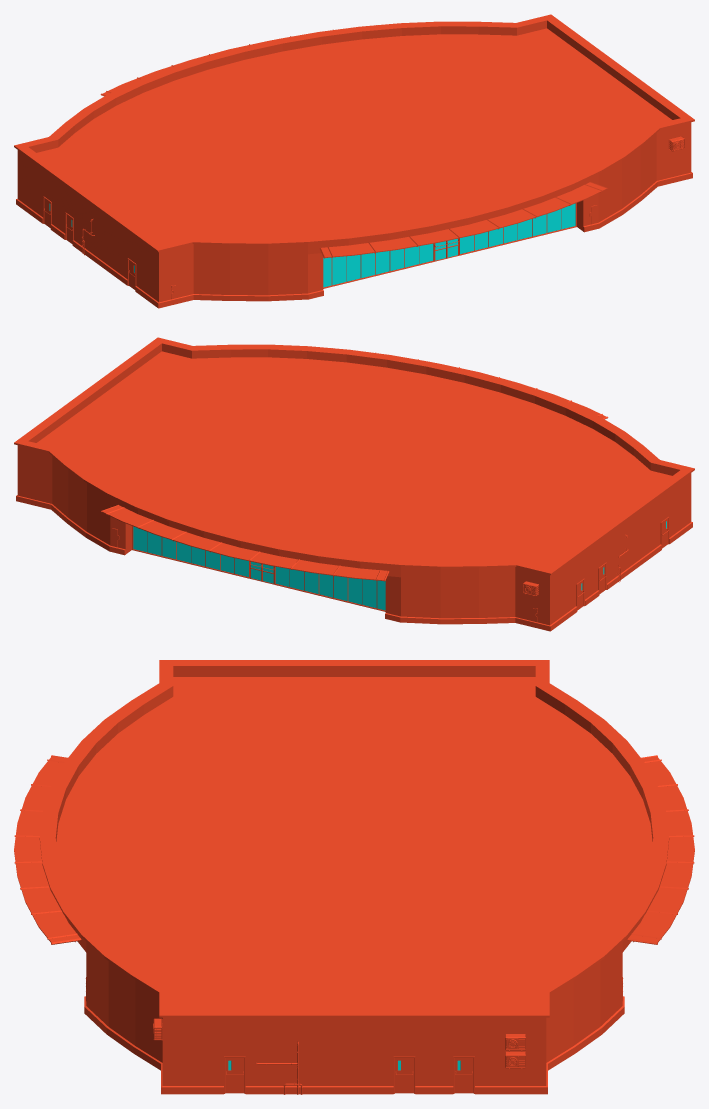
File: SM_Skyscraper_B_Base_City.fbx
3 renders of one model, top to bottom at view 1: azimuth 30°, elevation 25°; view 2: azimuth 150°, elevation 25°; view 3: azimuth 270°, elevation 25°, orthographic. The views are drawn at different scales.
Visible parts, largest first — view 1: SM_Skyscraper_B_Base_City; view 2: SM_Skyscraper_B_Base_City; view 3: SM_Skyscraper_B_Base_City.
Boxes of the visible parts, x1=… form: SM_Skyscraper_B_Base_City: x1=14, y1=14, x2=694, y2=308; SM_Skyscraper_B_Base_City: x1=14, y1=337, x2=694, y2=631; SM_Skyscraper_B_Base_City: x1=14, y1=660, x2=694, y2=1094.
Bounding box in the file's own units: 44.74 × 4.63 × 35.95.
